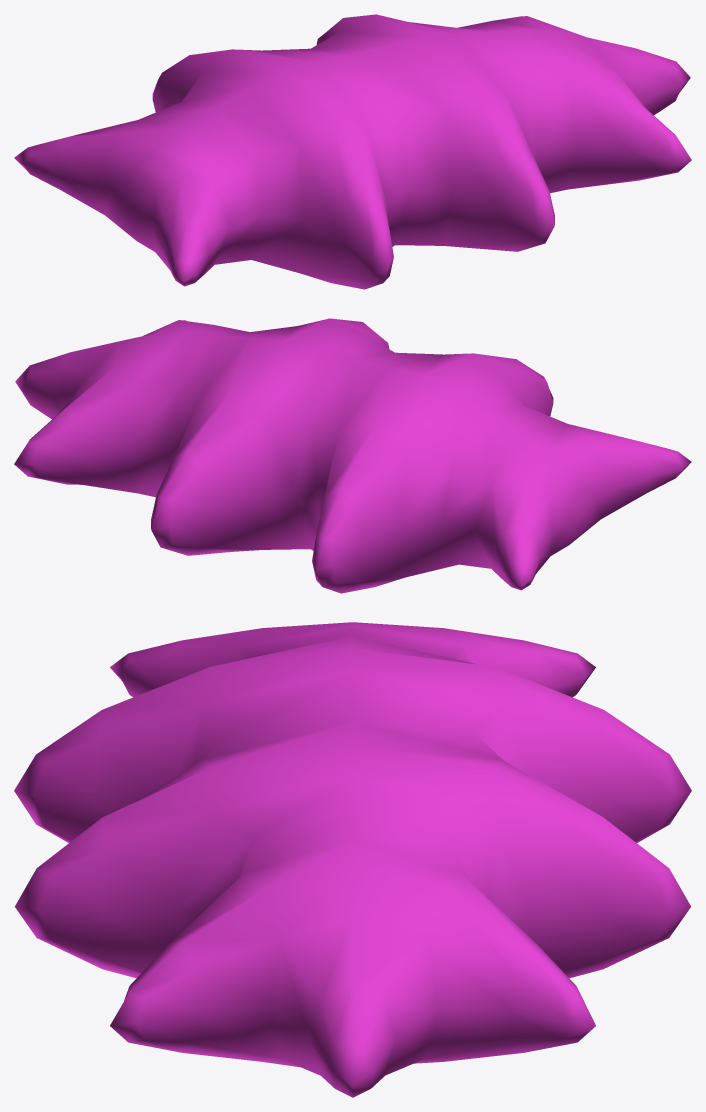
Rendered from monster9.fbx.
3 views of the same model, one above another, from view 1: azimuth 30°, elevation 25°; view 2: azimuth 150°, elevation 25°; view 3: azimuth 270°, elevation 25° (orthographic). The views are drawn at different scales.
Parts seen in each view (by area): view 1: monster9; view 2: monster9; view 3: monster9.
Boxes of the visible parts, x1=… form: monster9: x1=14, y1=14, x2=691, y2=289; monster9: x1=14, y1=318, x2=691, y2=593; monster9: x1=14, y1=622, x2=691, y2=1097.
Bounding box in the file's own units: 102 × 30.41 × 70.41.
